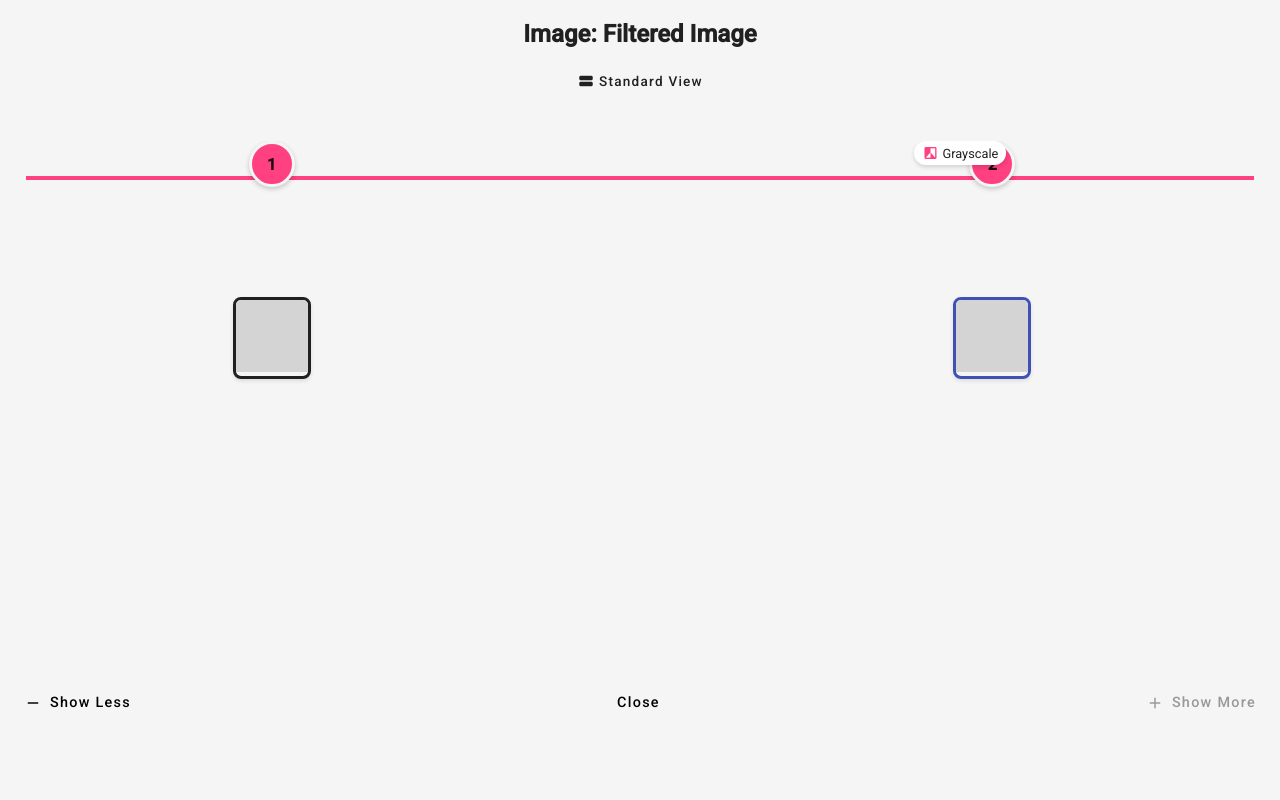
Test: ImageHierarchyComponent › should toggle between timeline and standard view
Expected: the element with class "timelineContainer" is shown, [26, 141, 1254, 379]
Step 1. Click the button "Standard View" → (640, 81), box [561, 63, 719, 99]
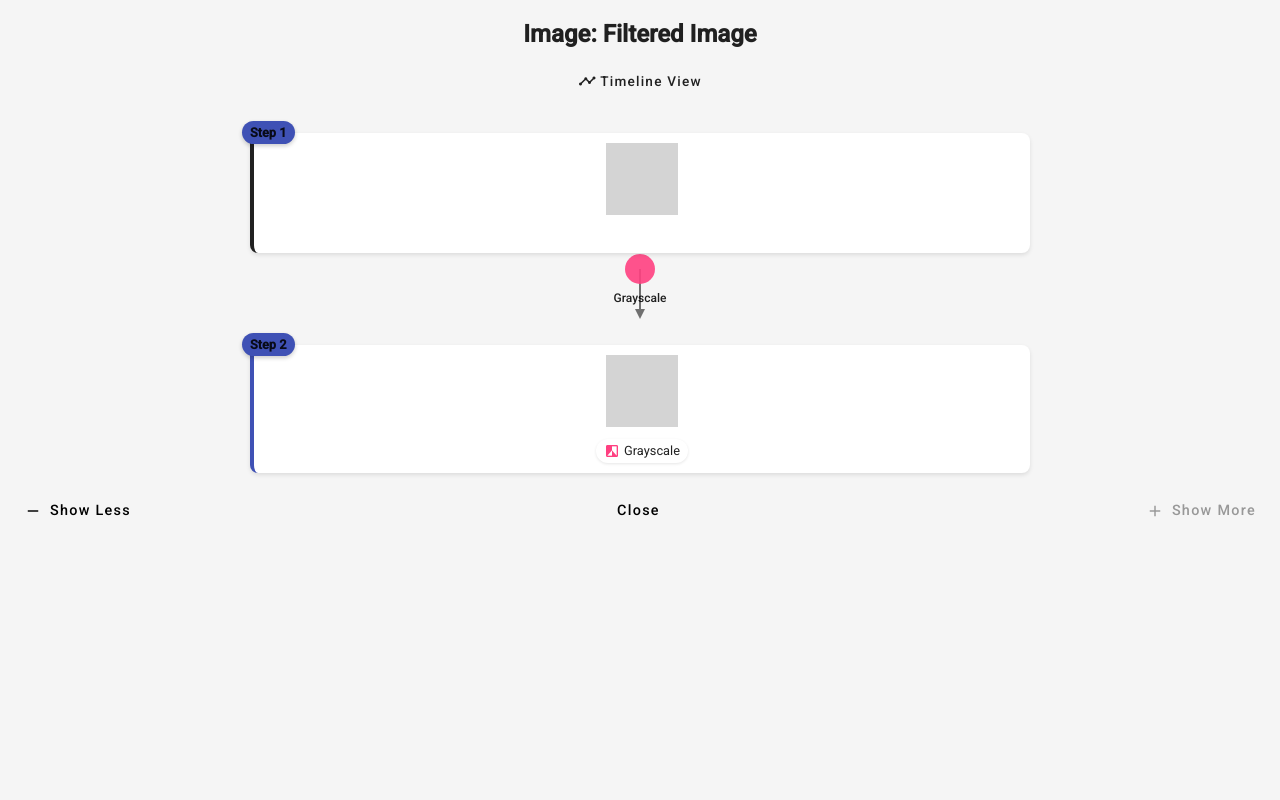
Expected: the element with class "imagesColumn" is shown, [250, 133, 1030, 473]
Expected: the element with class "timelineContainer" is gone
Note: Toggle back to timeline view
Step 2. Click the button "Timeline View" → (640, 81), box [562, 63, 718, 99]
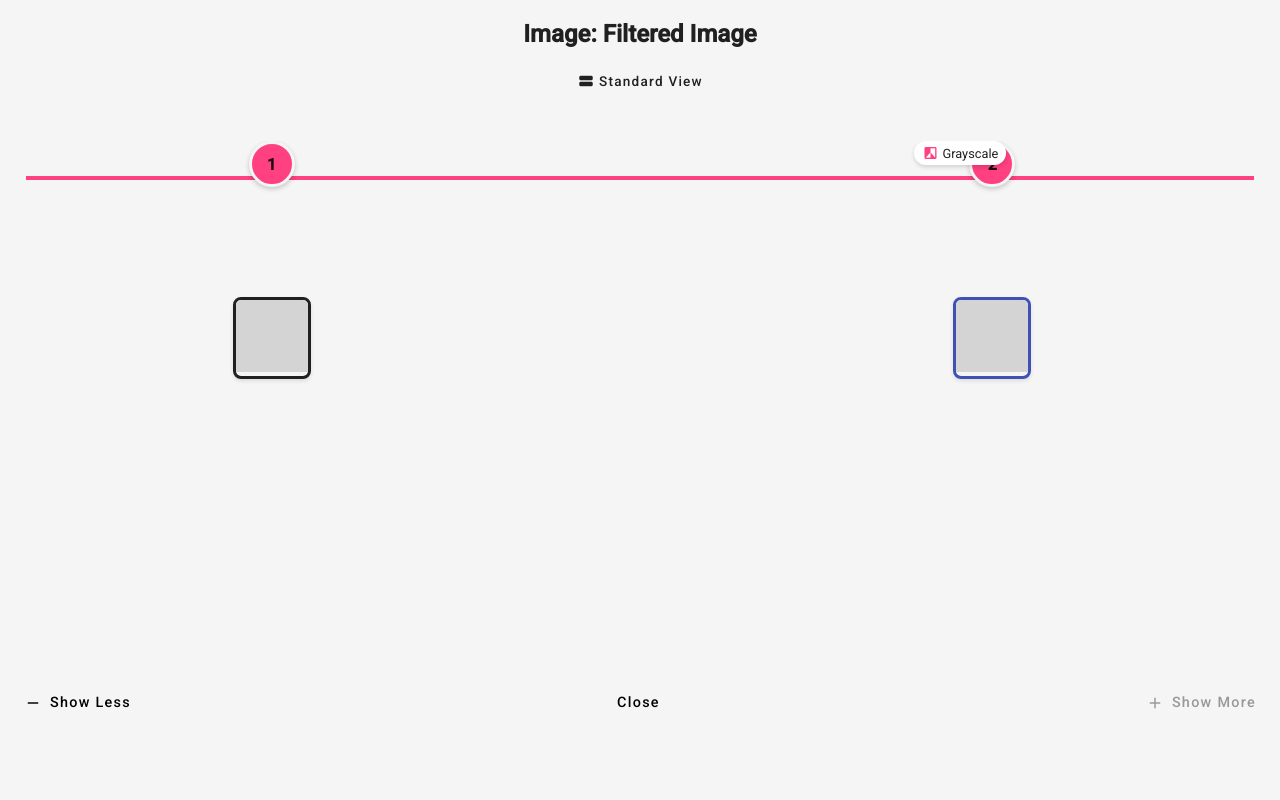
Expected: the element with class "timelineContainer" is shown, [26, 141, 1254, 379]
